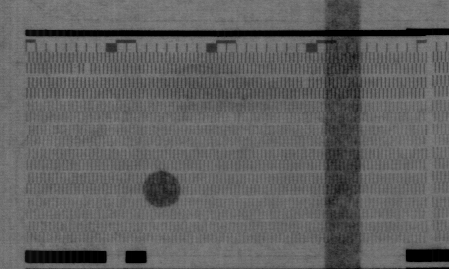Broken hole: (69, 64, 93, 77), (225, 111, 238, 124), (299, 76, 311, 90)
